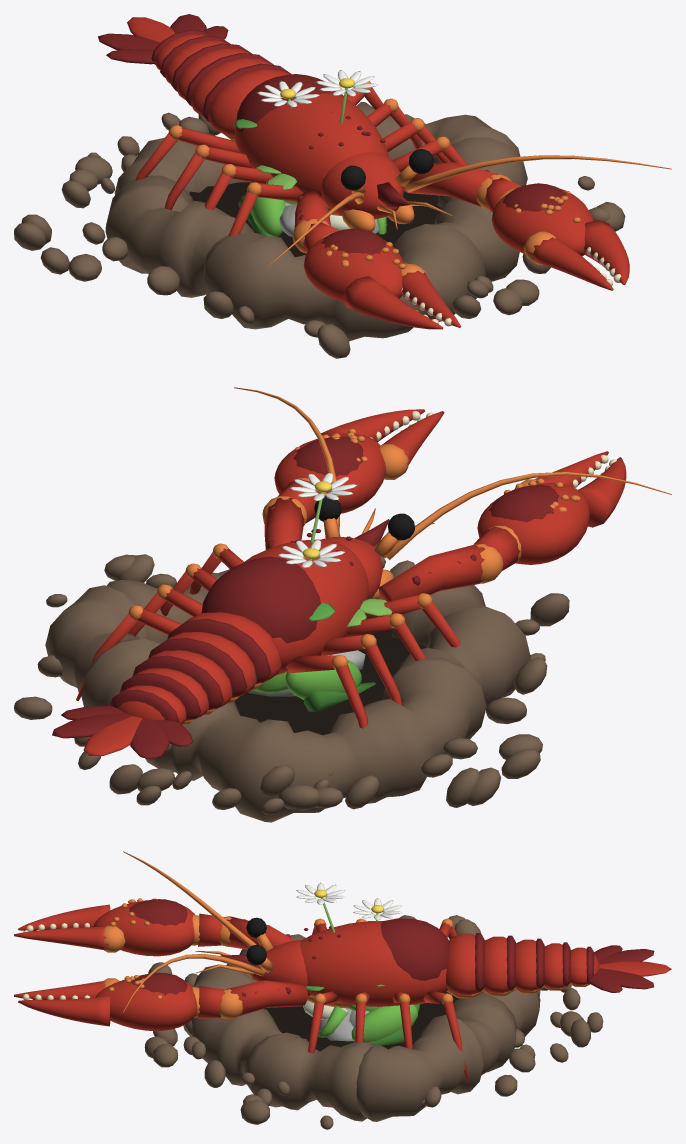
File: kaeru.glb
The picture shows the model from 3 angles, top to bottom: view 1: azimuth 30°, elevation 25°; view 2: azimuth 150°, elevation 25°; view 3: azimuth 270°, elevation 25°; orthographic projection. The views are drawn at different scales.
Visible parts, largest first — view 1: mound, body, clawL, clawR, tail2, tail, pinR, armR, flower, pinL, frog, legL4 (+9 smaller); view 2: mound, body, tail2, clawL, clawR, tail, armL, frog, flower, pinR, armR, legL4 (+11 smaller); view 3: mound, body, clawR, clawL, tail2, tail, frog, armR, pinL, flower, pinR, armL (+7 smaller).
Part boxes in pixels (x1,y1,x2,y2): mound: (14,101,625,358); body: (235,74,452,231); clawL: (303,222,443,329); clawR: (484,177,629,284); tail2: (98,14,251,99); tail: (185,53,291,140); pinR: (524,231,613,290); armR: (403,162,511,209); flower: (256,70,378,123); pinL: (401,264,461,327); frog: (238,182,386,236); legL4: (135,125,239,180); mound: (14,554,569,822); body: (201,496,434,675); tail2: (52,650,232,759); clawL: (474,457,626,570); clawR: (274,409,424,522); tail: (148,612,281,703); armL: (379,543,503,601); frog: (254,654,375,711); flower: (277,472,357,567); pinR: (379,411,444,479); armR: (262,495,307,549); legL4: (285,655,368,728); mound: (144,915,603,1129); body: (195,917,449,1008); clawR: (18,973,225,1030); clawL: (18,898,225,956); tail2: (515,938,671,993); tail: (446,933,516,998); frog: (303,1000,419,1047); armR: (220,980,307,1019); pinL: (14,925,125,952); flower: (296,882,401,932); pinR: (14,978,119,1000); armL: (220,916,294,949).
Size of the model in its own units: 1.55 by 0.6328 by 2.16.
